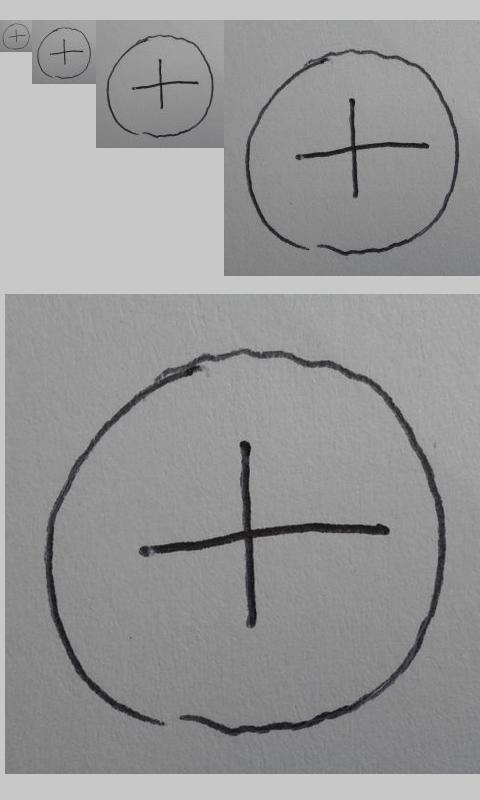button: (44, 342, 448, 742), (244, 47, 461, 255), (106, 34, 214, 138), (36, 26, 92, 80), (2, 23, 30, 50)
